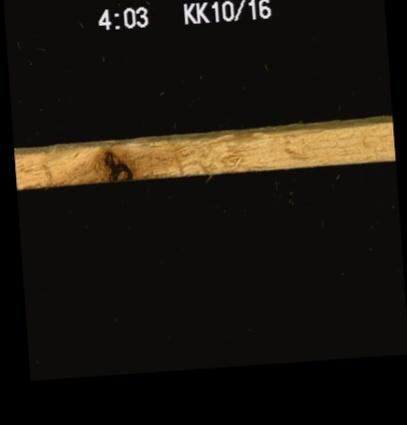wave: (13, 119, 392, 147)
